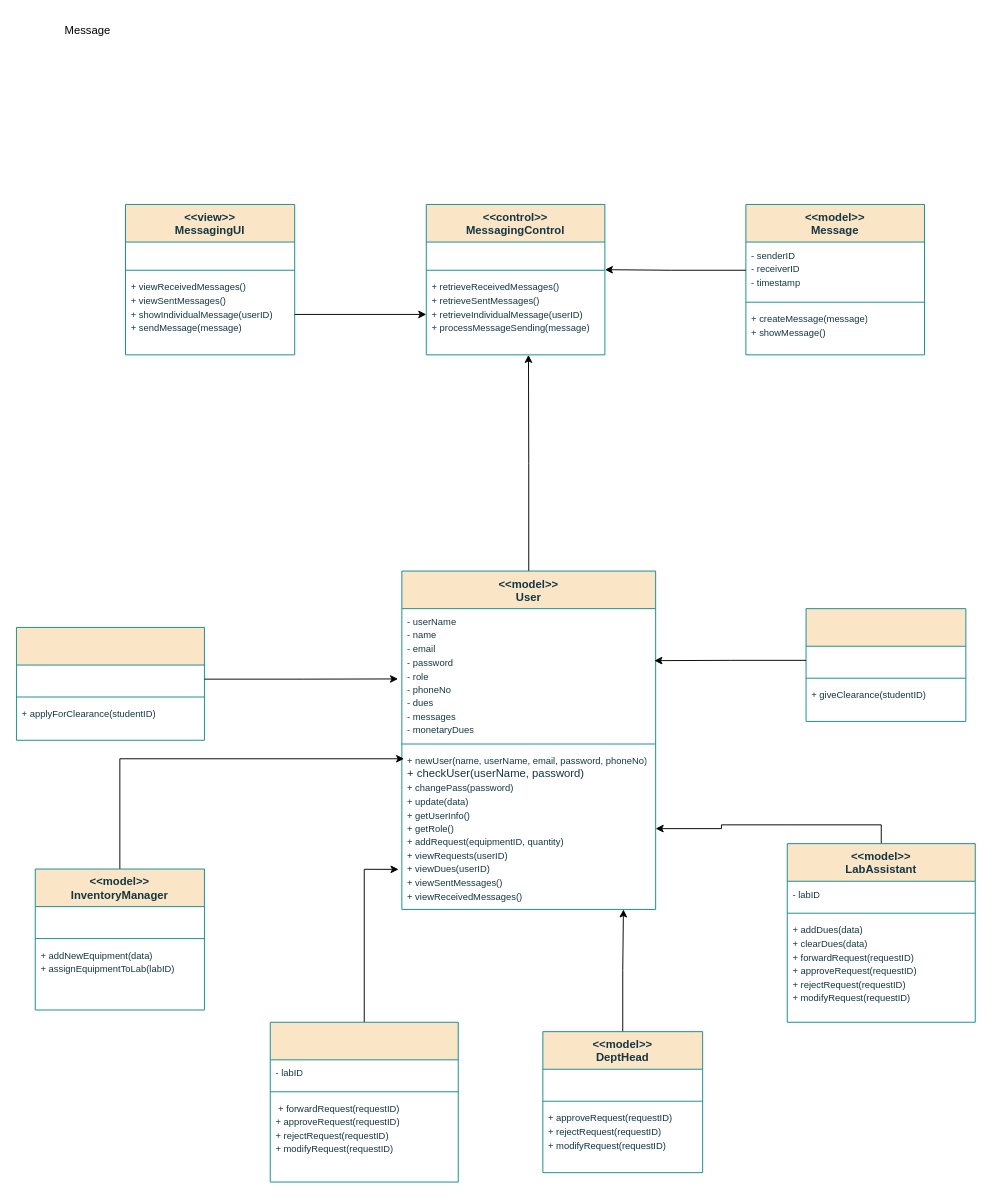
Image size: 992x1200. Some labels were removed from this diagram. Each missing label, with the box of its shape:
<<model>> LabSupervisor: (269, 1021, 458, 1182)
<<model>> Student: (16, 627, 204, 740)
<<model>> SuperAdmin: (805, 608, 966, 721)
